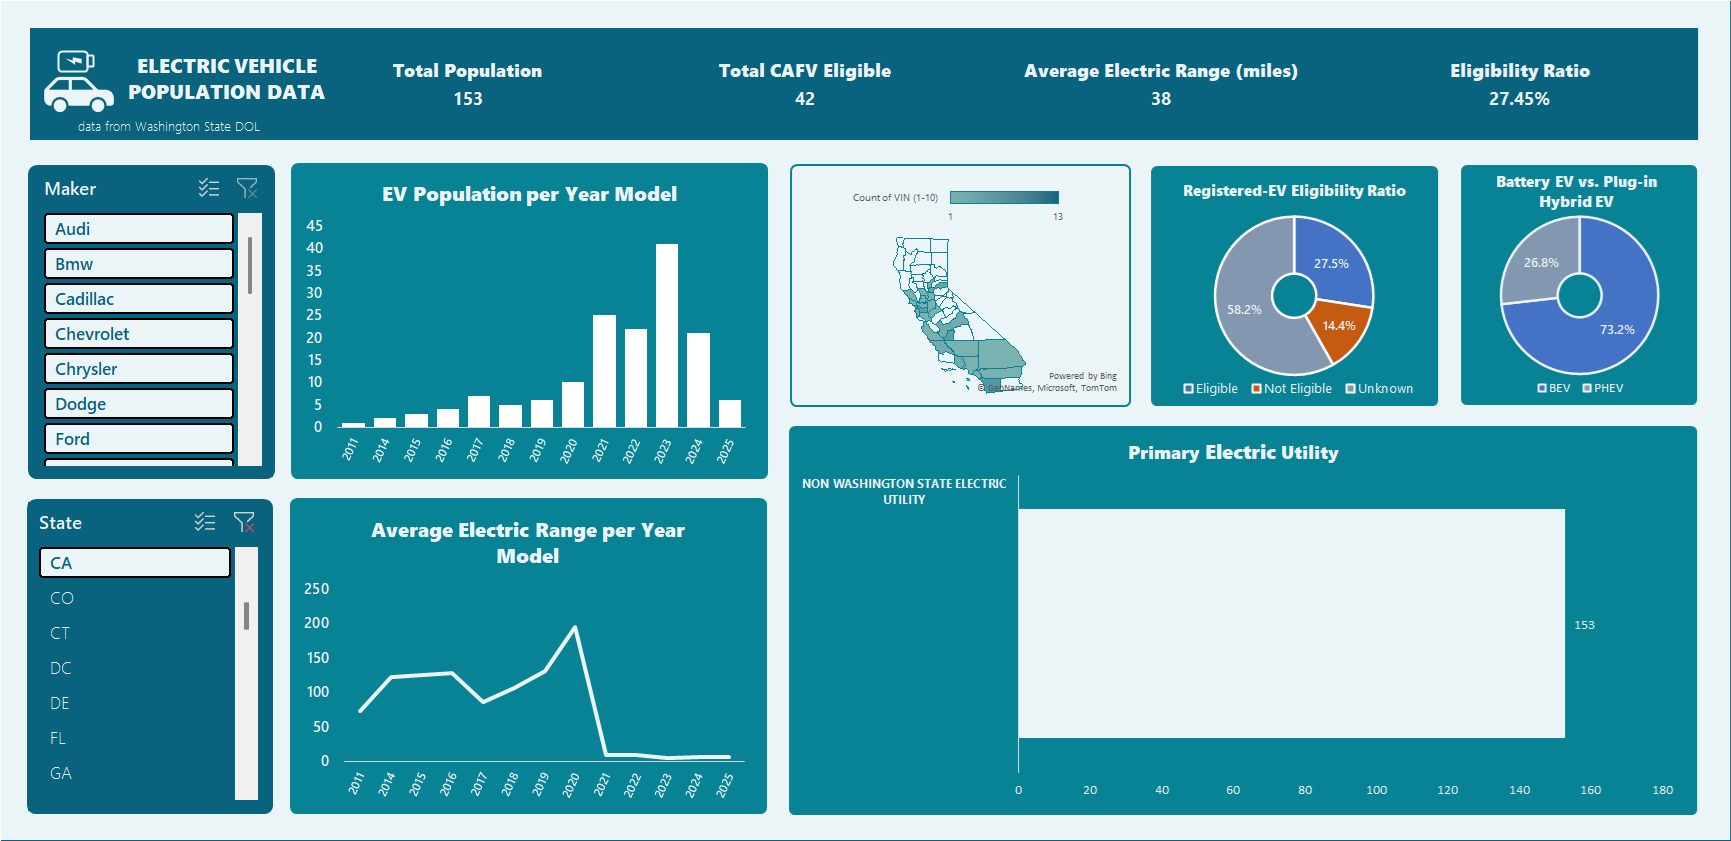

This screenshot's page, from the dashboard's own definition file:
{"tool":"powerbi","page":{"name":"Executive Overview","canvas":[1280,720],"ordinal":0},"visuals":[{"type":"card","title":"Total Electric Vehicles","fields":{"Values":["vw_EV_PowerBI_Ready.Total EVs"]},"box":[436,34,226,118],"z":0},{"type":"card","title":"Clean Alternative Fuel Vehicle (CAFV) Eligible EVs","fields":{"Values":["vw_EV_PowerBI_Ready.Incentivization %"]},"box":[675,34,226,118],"z":1000},{"type":"card","title":"Average Electric Range of an EV/s","fields":{"Values":["vw_EV_PowerBI_Ready.Ave Electric Range"]},"box":[914,34,228,118],"z":2000},{"type":"slicer","title":"Sort by type","fields":{"Values":["vw_EV_PowerBI_Ready.ev_type"]},"box":[1151.2,95,115,56.2],"z":3000},{"type":"columnChart","title":"The Population of Modern Electric Vehicles","fields":{"Category":["vw_EV_PowerBI_Ready.year_model.Variation.Date Hierarchy.Year"],"Y":["vw_EV_PowerBI_Ready.Total EVs"]},"box":[12.5,190,408.8,246.2],"z":4000},{"type":"areaChart","fields":{"Category":["vw_EV_PowerBI_Ready.year_model"],"Y":["vw_EV_PowerBI_Ready.Ave Electric Range"]},"box":[436.2,190,421.2,246.2],"z":5000},{"type":"treemap","fields":{"Group":["vw_EV_PowerBI_Ready.maker"],"Values":["vw_EV_PowerBI_Ready.Total EVs"]},"box":[871.2,190,395,492.5],"z":6000},{"type":"donutChart","title":"How many EV owner getting incentivized?","fields":{"Category":["vw_EV_PowerBI_Ready.validated_eligibility"],"Y":["CountNonNull(vw_EV_PowerBI_Ready.validated_eligibility)"]},"box":[12.5,436.2,408.8,246.2],"z":7000},{"type":"textbox","box":[17.5,33.8,403.8,117.5],"z":8000},{"type":"textbox","box":[6.6,21.1,78.2,132.7],"z":9000},{"type":"map","fields":{"X":["vw_EV_PowerBI_Ready.longitude"],"Y":["vw_EV_PowerBI_Ready.latitude"]},"box":[436.2,436.2,421.2,246.2],"z":10000},{"type":"shape","box":[0,165,1280,7.5],"z":11000},{"type":"shape","box":[0,14.3,1280,7.1],"z":12000},{"type":"shape","box":[0,697.1,1280,8.6],"z":13000},{"type":"image","box":[1150,39.4,116.1,30.6],"z":14000},{"type":"image","box":[1180,70,57.8,17.2],"z":15000}]}

Visuals, with their boxes on the page's 1280x720 design canvas (x1, y1, x2, y2). These are canvas units, not pixel positions in the 1731x841 screenshot, which may show the page scaled, cropped or inside an application window:
"Total Electric Vehicles" card: x1=436 y1=34 x2=662 y2=152
"Clean Alternative Fuel Vehicle (CAFV) Eligible EVs" card: x1=675 y1=34 x2=901 y2=152
"Average Electric Range of an EV/s" card: x1=914 y1=34 x2=1142 y2=152
"Sort by type" slicer: x1=1151 y1=95 x2=1266 y2=151
"The Population of Modern Electric Vehicles" columnChart: x1=12 y1=190 x2=421 y2=436
areaChart - vw_EV_PowerBI_Ready.year_model x vw_EV_PowerBI_Ready.Ave Electric Range: x1=436 y1=190 x2=857 y2=436
treemap - vw_EV_PowerBI_Ready.maker x vw_EV_PowerBI_Ready.Total EVs: x1=871 y1=190 x2=1266 y2=682
"How many EV owner getting incentivized?" donutChart: x1=12 y1=436 x2=421 y2=682
textbox: x1=18 y1=34 x2=421 y2=151
textbox: x1=7 y1=21 x2=85 y2=154
map - vw_EV_PowerBI_Ready.longitude x vw_EV_PowerBI_Ready.latitude: x1=436 y1=436 x2=857 y2=682
shape: x1=0 y1=165 x2=1280 y2=172
shape: x1=0 y1=14 x2=1280 y2=21
shape: x1=0 y1=697 x2=1280 y2=706
image: x1=1150 y1=39 x2=1266 y2=70
image: x1=1180 y1=70 x2=1238 y2=87
